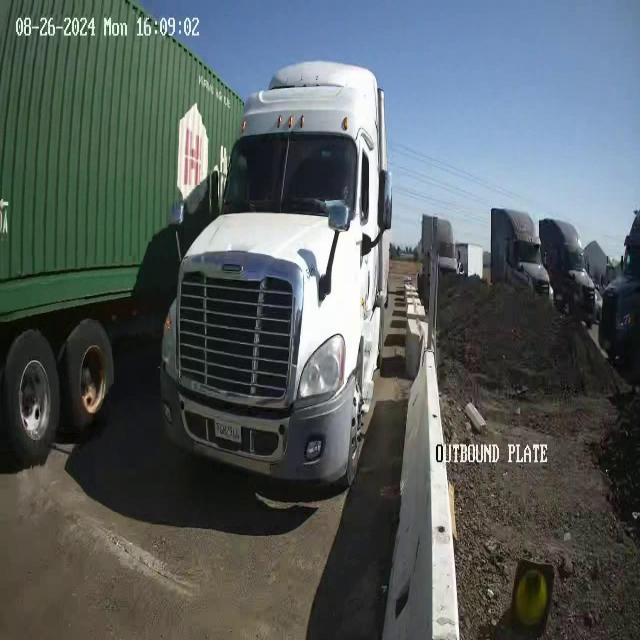TRUCK_IN: (159, 58, 393, 502)
